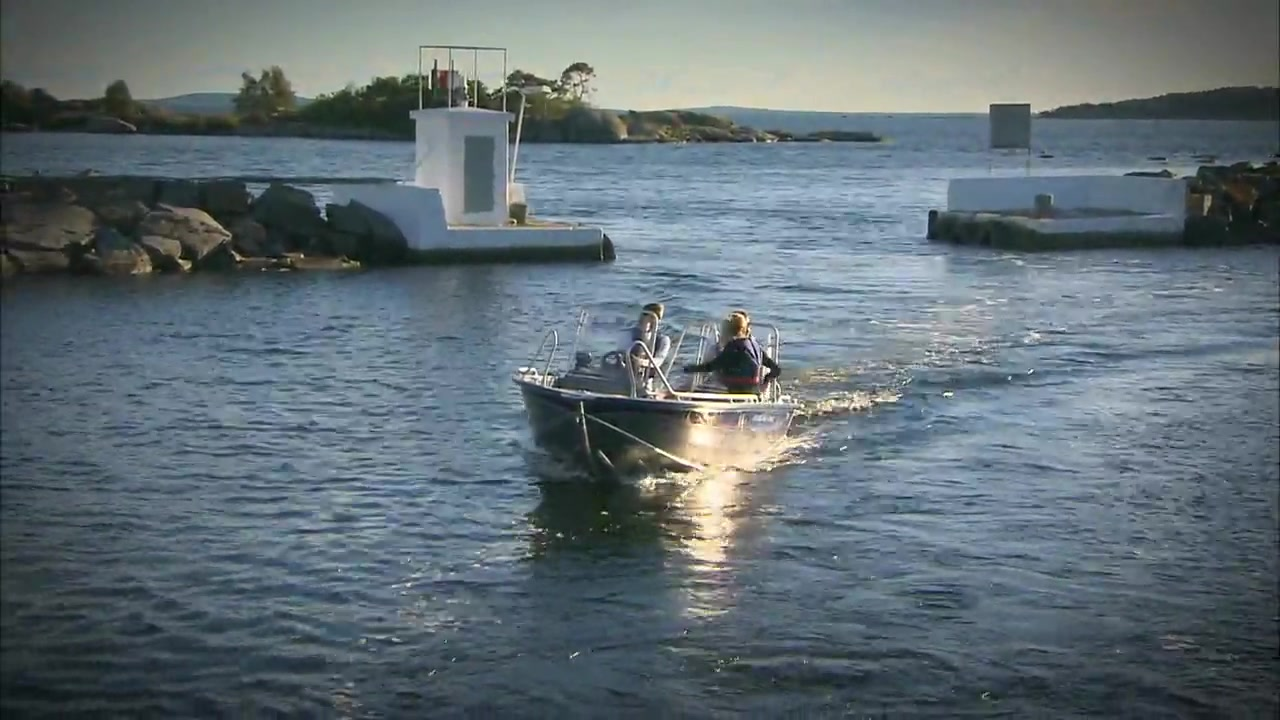boat: (516, 303, 802, 488)
